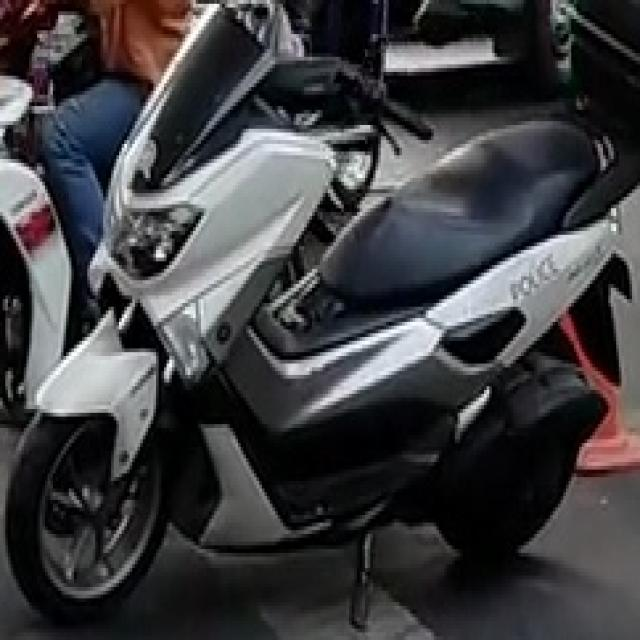door: (0, 0, 637, 625)
tyre: (3, 401, 169, 621)
